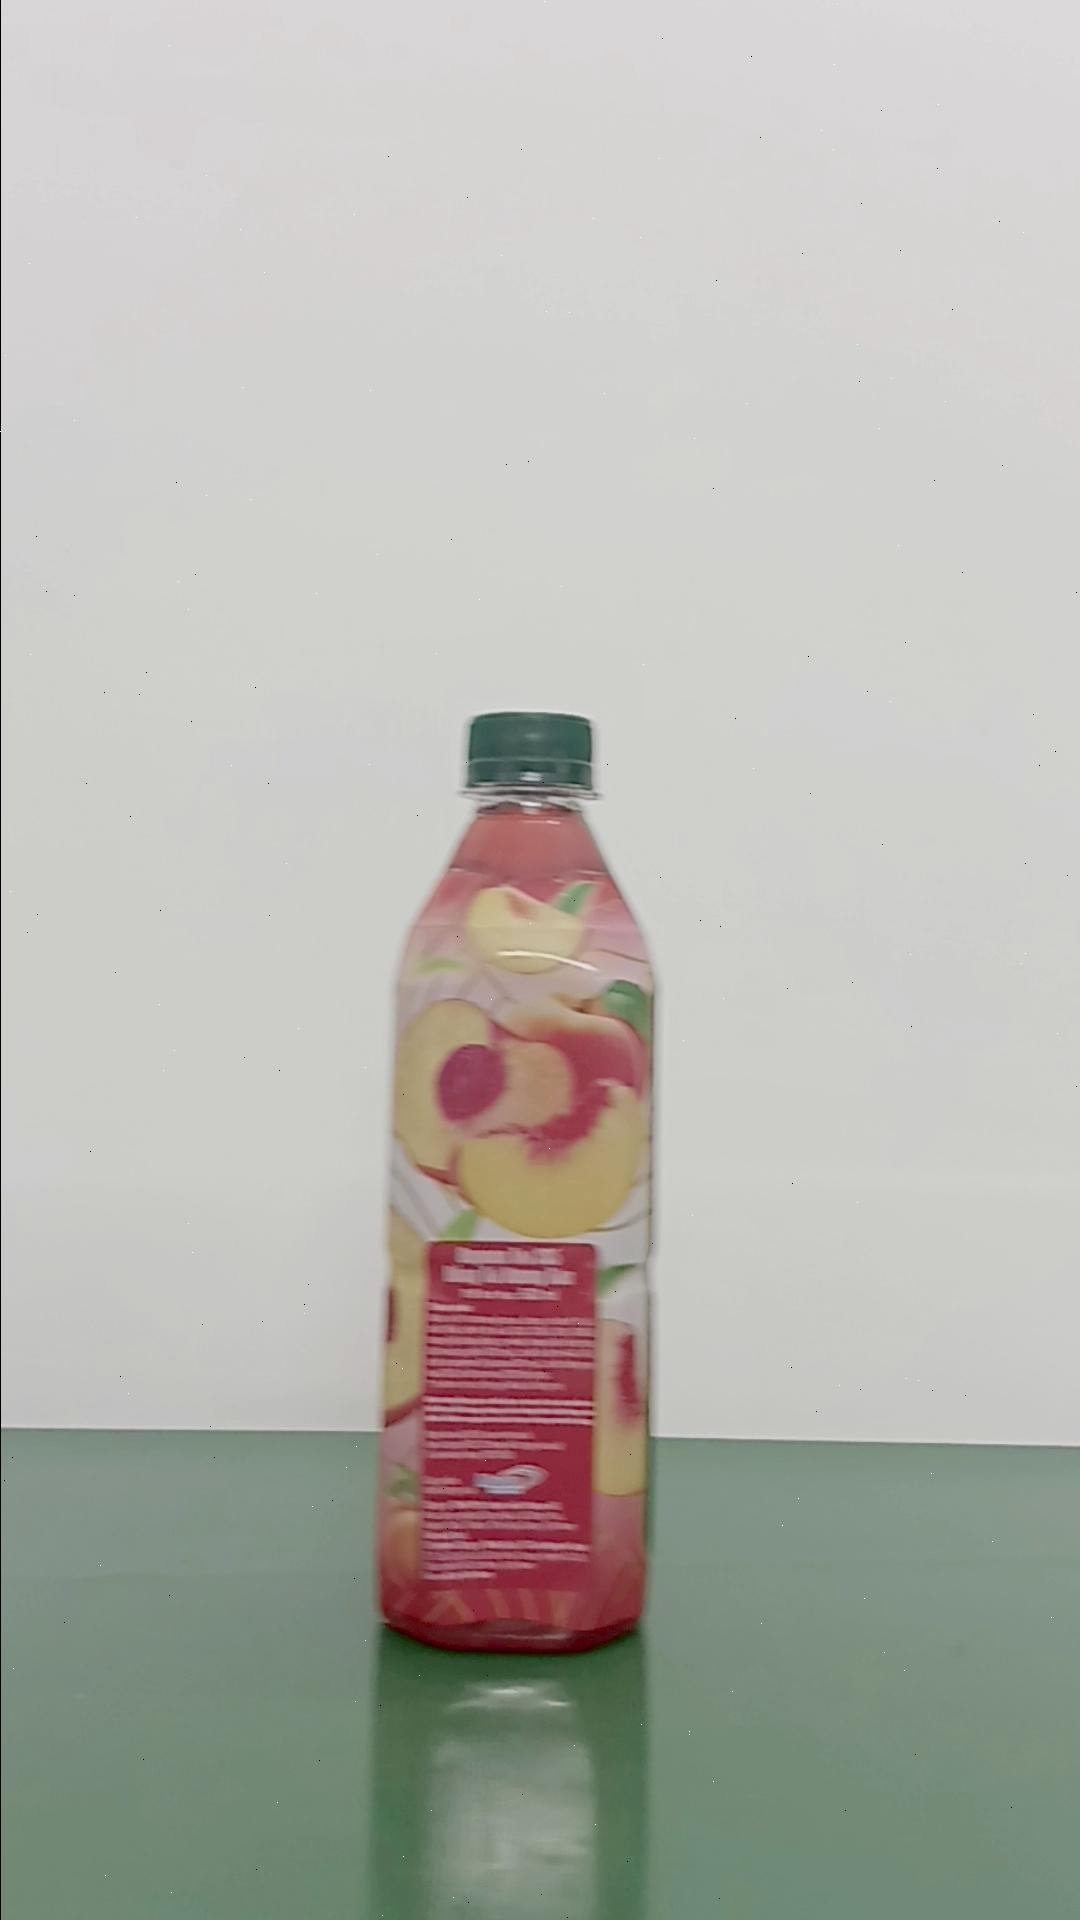khong loi: (372, 708, 658, 1654)
